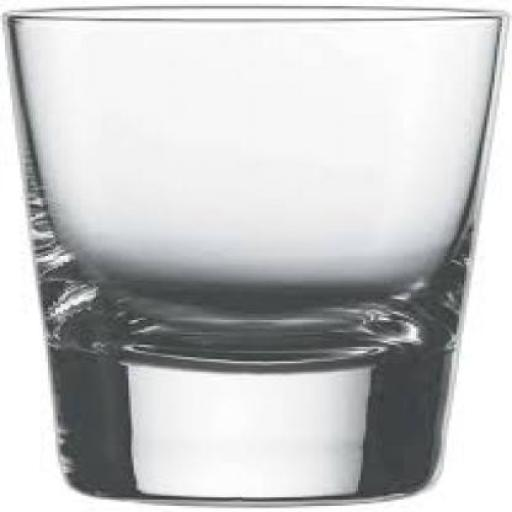glass: (3, 2, 502, 501)
